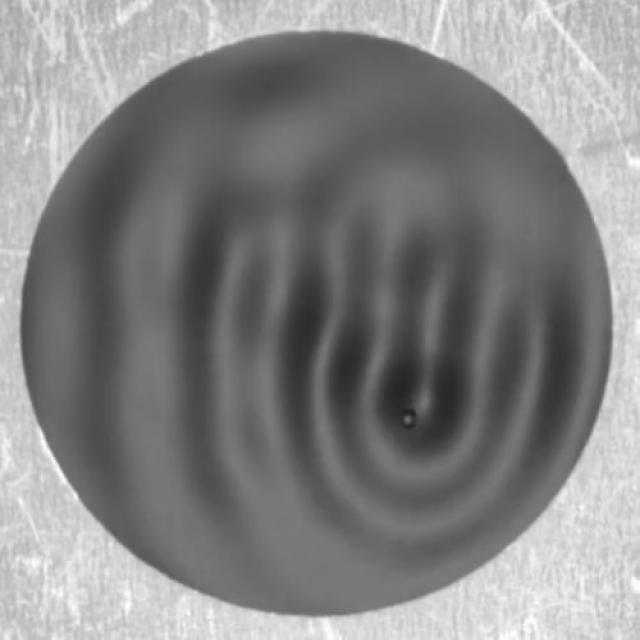droplet: (398, 406, 421, 432)
